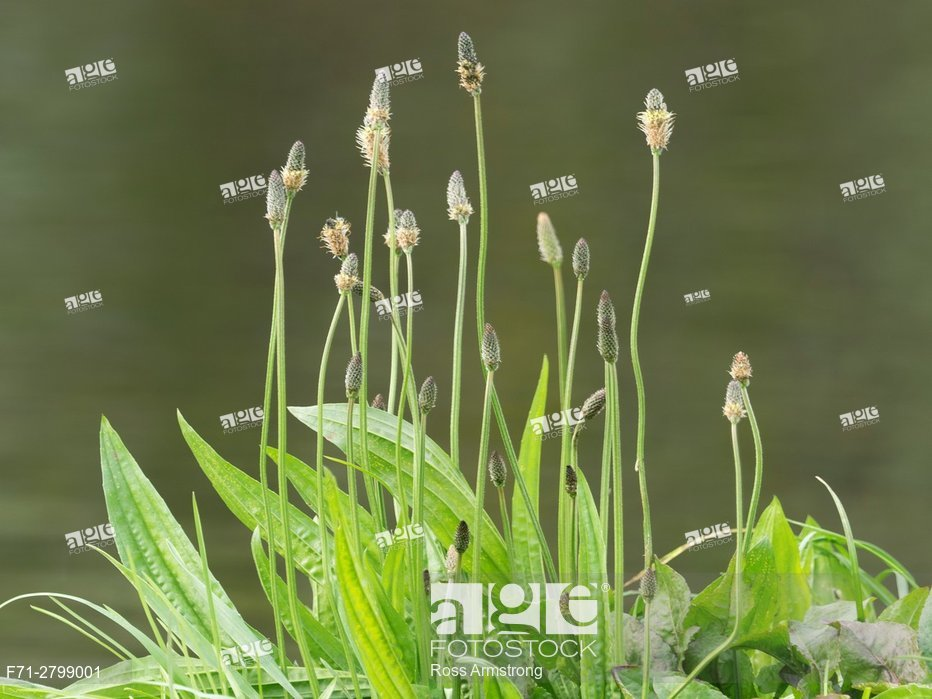buckhorn plantain: (160, 18, 844, 699)
